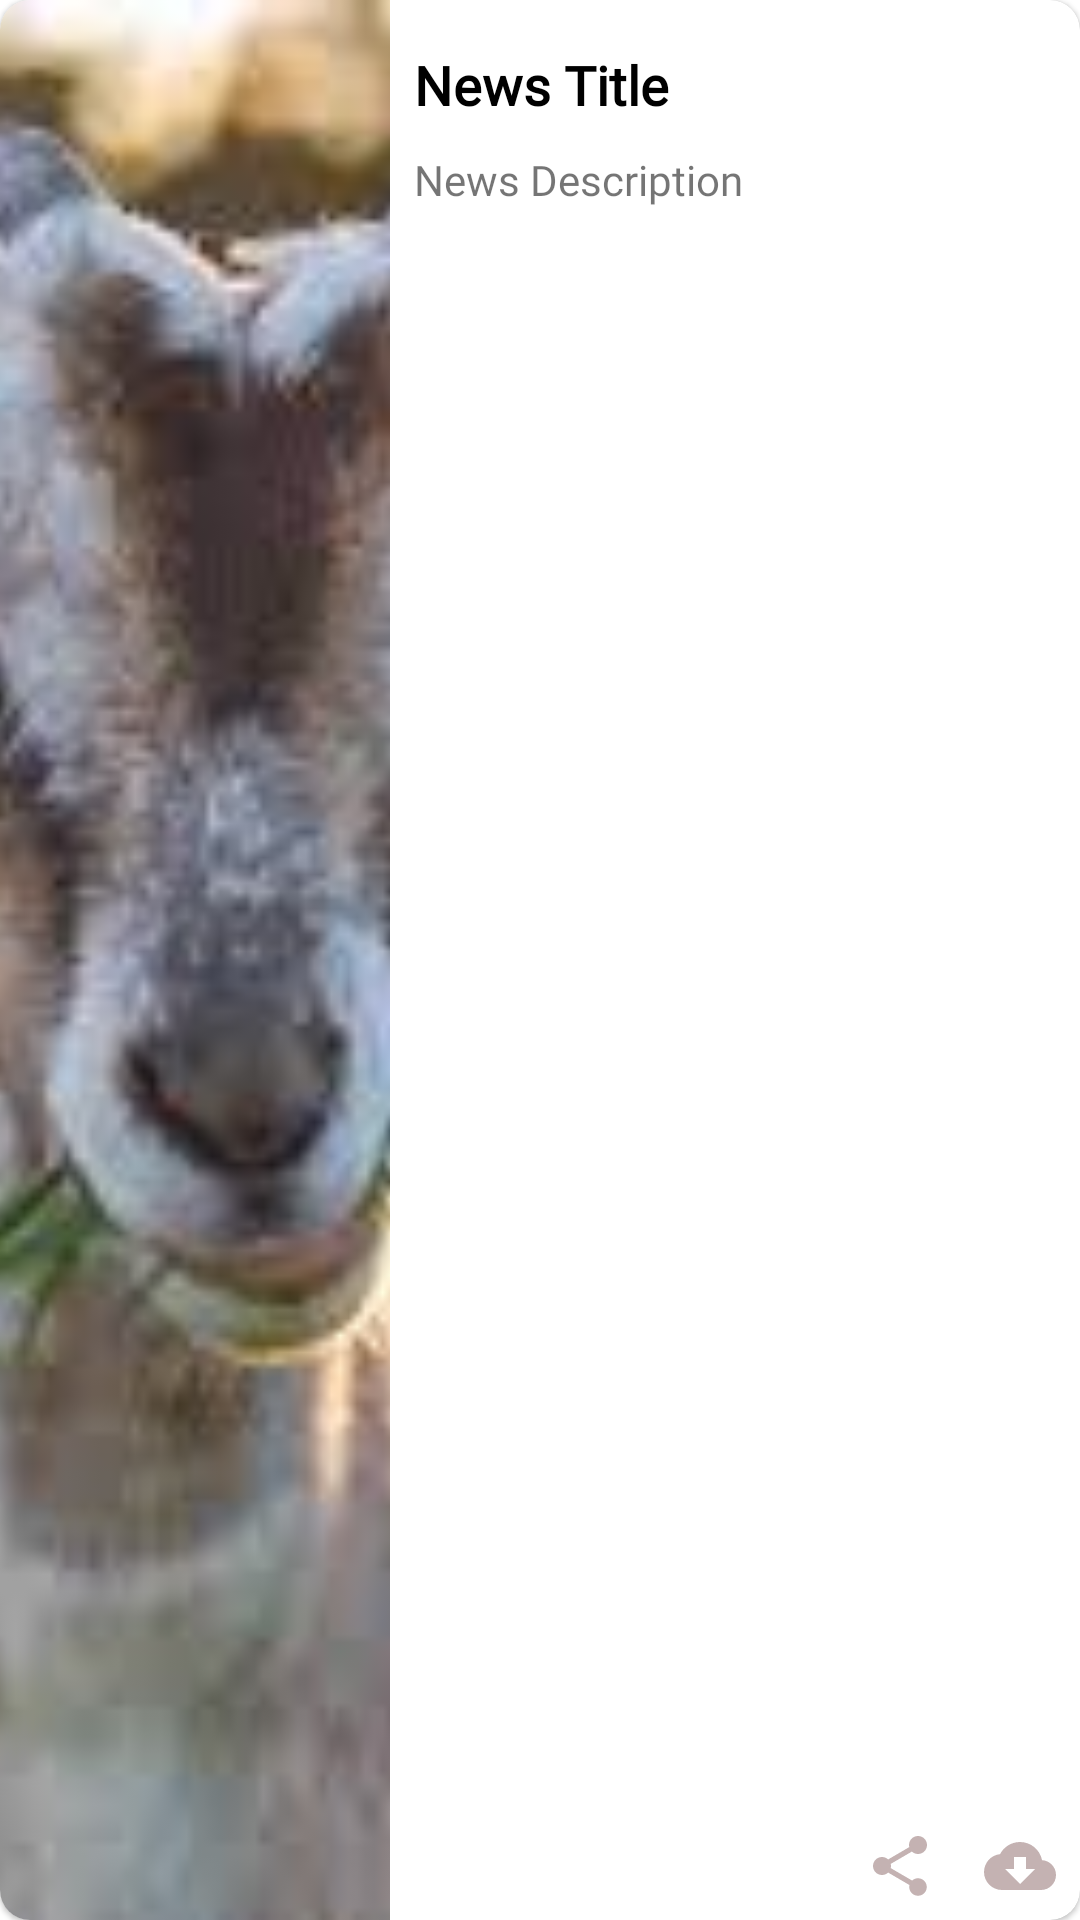

Icon click points for this 1080x1920 phone screenshot, format [x,y]:
cloud download: [1020,1866]
share: [900,1866]
